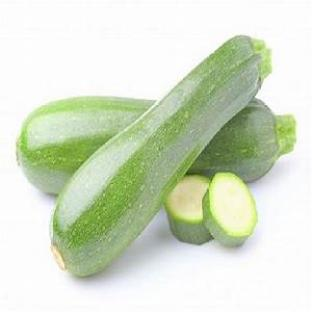Zucchini: (51, 36, 269, 275), (17, 97, 153, 193), (203, 173, 256, 246), (166, 175, 213, 244)
